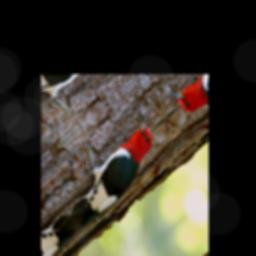Woodpecker: (49, 99, 167, 232)
